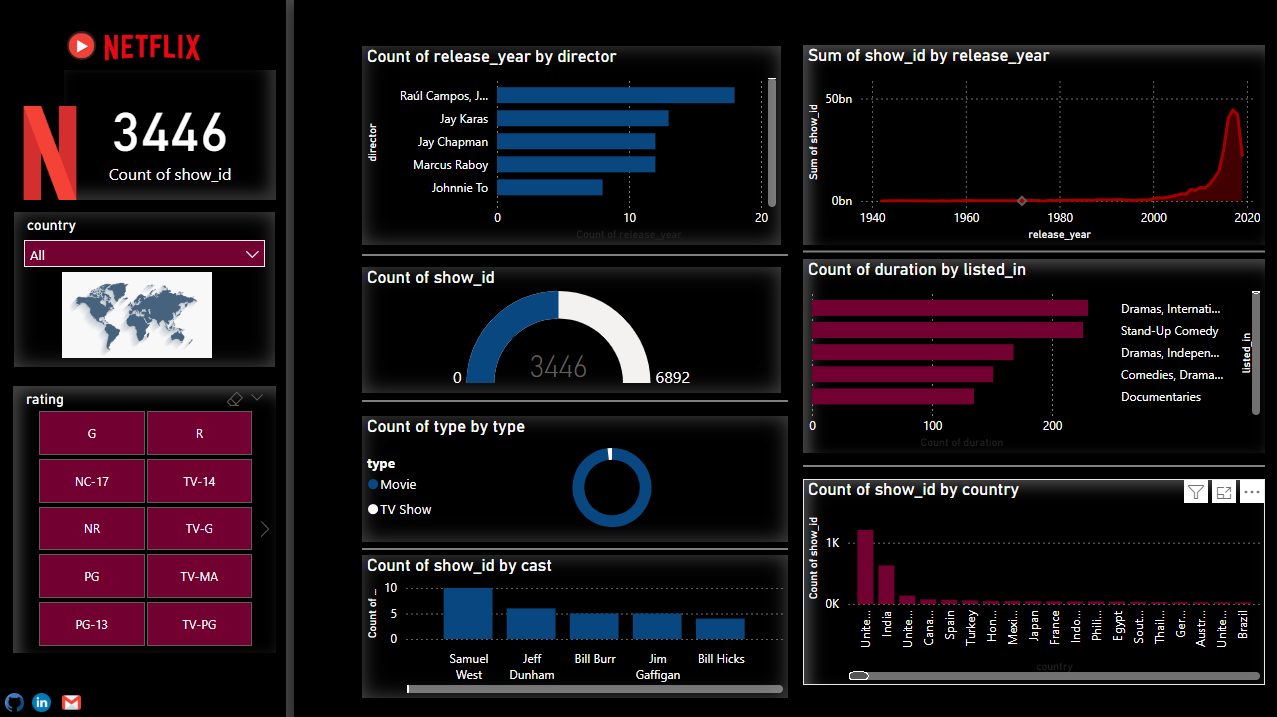

What the dashboard file says about the page in this screenshot:
{"tool":"powerbi","page":{"name":"Page 1","canvas":[1280,720],"ordinal":0},"visuals":[{"type":"clusteredBarChart","title":"Number of films produced by each country in netfilx","fields":{"Category":["netflex.country"],"Y":["CountNonNull(netflex.show_id)"]},"box":[804.7,482,461.9,206.5],"z":0},{"type":"donutChart","title":"Type of show in Netflix","fields":{"Y":["CountNonNull(netflex.type)"],"Category":["netflex.type"]},"box":[315.9,409.1,474.4,136.4],"z":1000},{"type":"lineChart","title":"Number of films produced each year","fields":{"Category":["netflex.release_year"],"Y":["CountNonNull(netflex.show_id)"]},"box":[804.7,0,461.9,247.7],"z":2000},{"type":"clusteredBarChart","title":"Most types of films available","fields":{"Category":["netflex.listed_in"],"Y":["CountNonNull(netflex.show_id)"]},"box":[804.7,263.1,461.9,194],"z":3000},{"type":"gauge","title":"Count of Films","fields":{"Y":["CountNonNull(netflex.show_id)"]},"box":[315.9,269.8,466.7,125.8],"z":4000},{"type":"slicer","fields":{"Values":["netflex.rating"]},"box":[15.4,388.9,263.1,312.1],"z":5000},{"type":"slicer","fields":{"Values":["netflex.country"]},"box":[15,214,263,157],"z":6000},{"type":"image","box":[0,270,278,96],"z":7000},{"type":"columnChart","title":"Most directors have films on Netflix","fields":{"Category":["netflex.director"],"Y":["CountNonNull(netflex.release_year)"]},"box":[315.9,0,466.7,247.7],"z":8000},{"type":"lineStackedColumnComboChart","title":"Most actors have movies on Netflix","fields":{"Category":["netflex.cast"],"Y":["CountNonNull(netflex.show_id)"]},"box":[315.9,557.9,474.4,143.1],"z":9000},{"type":"card","fields":{"Values":["CountNonNull(netflex.show_id)"]},"box":[66,73,212,130],"z":10000},{"type":"image","box":[0,87,104,137],"z":11000},{"type":"image","box":[38,11,233,76],"z":12000},{"type":"image","box":[47,24,72,49],"z":13000},{"type":"shape","box":[315.9,250.6,474.4,15.4],"z":14000},{"type":"shape","box":[315.9,396.6,474.4,12.5],"z":15000},{"type":"shape","box":[315.9,545.4,474.4,12.5],"z":16000},{"type":"shape","box":[805,248,462,13],"z":17000},{"type":"shape","box":[805,463,462,12],"z":18000},{"type":"shape","box":[288,0,8,720],"z":19000}]}

Visuals, with their boxes in screenshot pixels (x1, y1, x2, y2), scaled from the page's 1280x720 canvas onto the 1277x717 screenshot:
"Number of films produced by each country in netfilx" clusteredBarChart: (803, 480, 1264, 686)
"Type of show in Netflix" donutChart: (315, 407, 788, 543)
"Number of films produced each year" lineChart: (803, 0, 1264, 247)
"Most types of films available" clusteredBarChart: (803, 262, 1264, 455)
"Count of Films" gauge: (315, 269, 781, 394)
slicer - netflex.rating: (15, 387, 278, 698)
slicer - netflex.country: (15, 213, 277, 369)
image: (0, 269, 277, 364)
"Most directors have films on Netflix" columnChart: (315, 0, 781, 247)
"Most actors have movies on Netflix" lineStackedColumnComboChart: (315, 556, 788, 698)
card - CountNonNull(netflex.show_id): (66, 73, 277, 202)
image: (0, 87, 104, 223)
image: (38, 11, 270, 87)
image: (47, 24, 119, 73)
shape: (315, 250, 788, 265)
shape: (315, 395, 788, 407)
shape: (315, 543, 788, 556)
shape: (803, 247, 1264, 260)
shape: (803, 461, 1264, 473)
shape: (287, 0, 295, 716)
